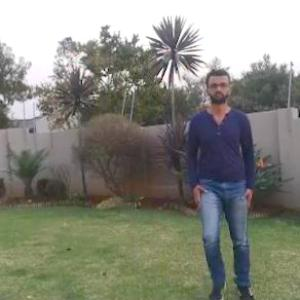follow: (179, 51, 263, 299)
